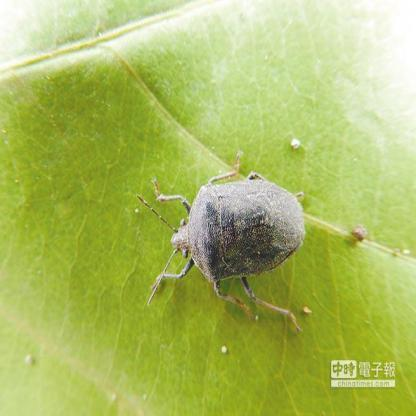rice-bug: (150, 154, 312, 331)
